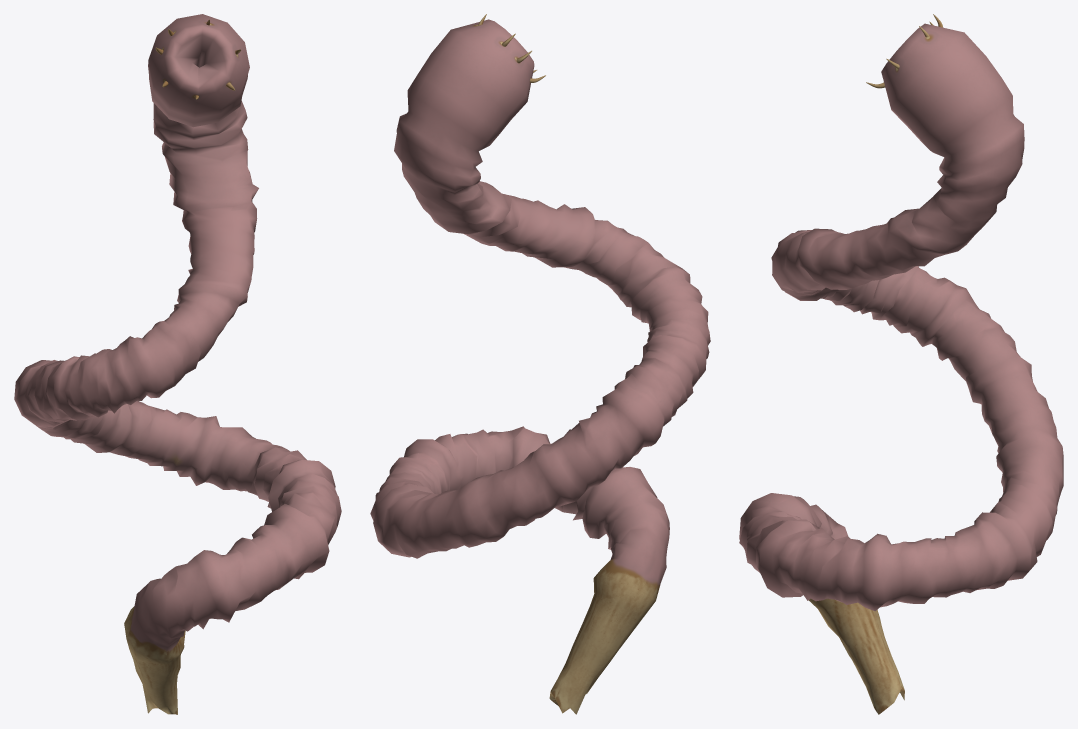
3 views of the same model, side by side, from view 1: azimuth 30°, elevation 25°; view 2: azimuth 150°, elevation 25°; view 3: azimuth 270°, elevation 25° (orthographic). The views are drawn at different scales.
Parts seen in each view (by area): view 1: worm_l; view 2: worm_l; view 3: worm_l.
Boxes of the visible parts, box(x1,y1,x2,y2) form: worm_l: box(14, 14, 341, 714); worm_l: box(370, 19, 710, 714); worm_l: box(739, 23, 1063, 714).
Bounding box in the file's own units: 301 × 670 × 276.
1 material, 1 textured.
